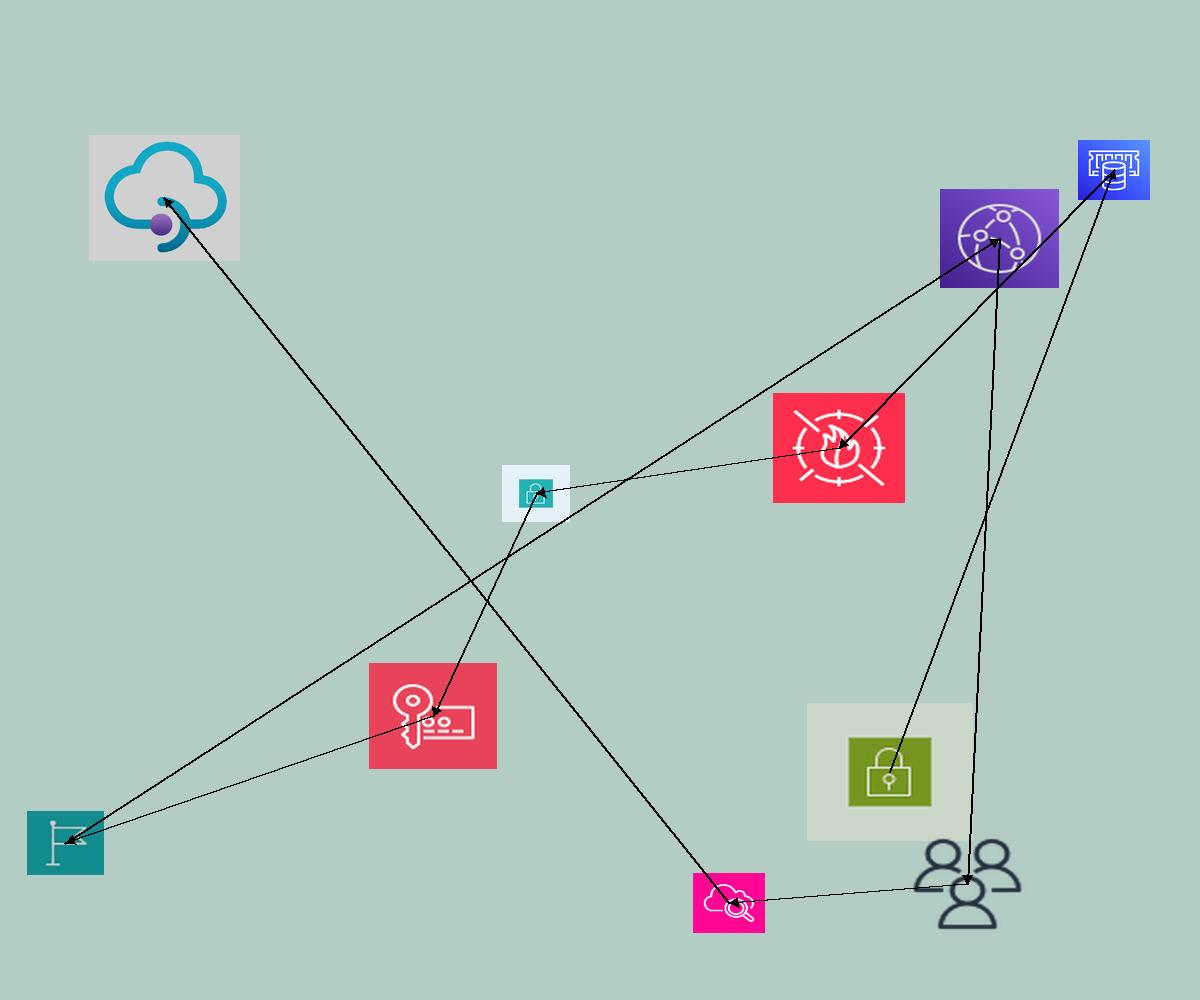AWS-CloudFront: (940, 189, 1059, 288)
AWS-CloudWatch: (693, 873, 765, 933)
AWS-ElastiCache: (1078, 140, 1150, 200)
AWS-Key-Management-Service: (369, 663, 497, 769)
AWS-Private-subnet: (502, 465, 570, 522)
AWS-Public-subnet: (807, 703, 973, 841)
AWS-Region: (27, 811, 104, 875)
AWS-Res_Users: (909, 835, 1026, 933)
AWS-WAF: (773, 393, 905, 503)
Azure_api_gateway: (89, 135, 240, 261)
